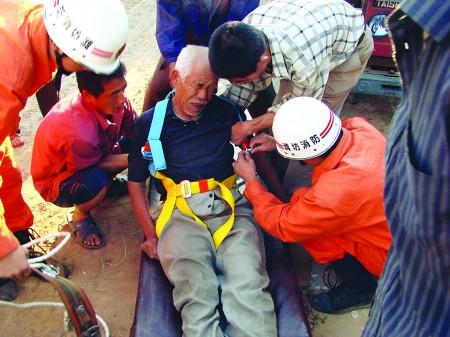fall: (126, 37, 283, 337)
